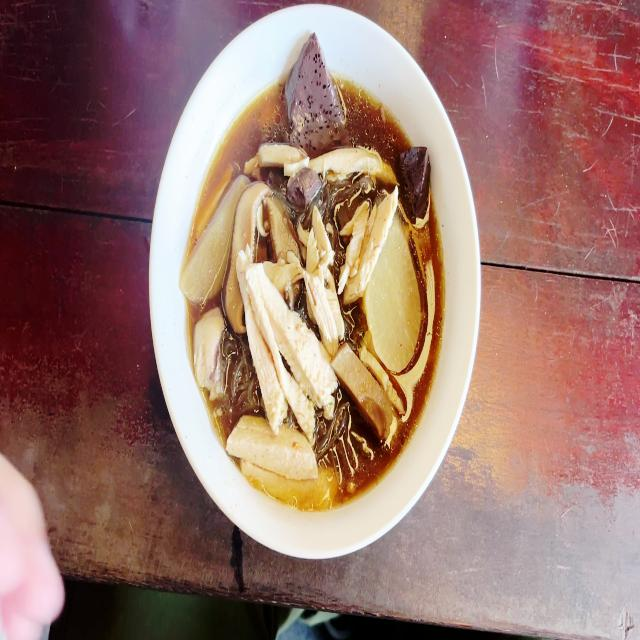boiled_chicken_blood_jelly: (284, 41, 336, 155), (285, 163, 323, 219), (399, 139, 426, 216)
chicken_shredded: (238, 254, 330, 425), (226, 408, 328, 503), (256, 138, 394, 192), (336, 184, 395, 288), (310, 198, 336, 346), (192, 313, 229, 389)
daikon_radish: (178, 170, 241, 308), (370, 239, 420, 362)
noodle: (183, 70, 446, 508)
